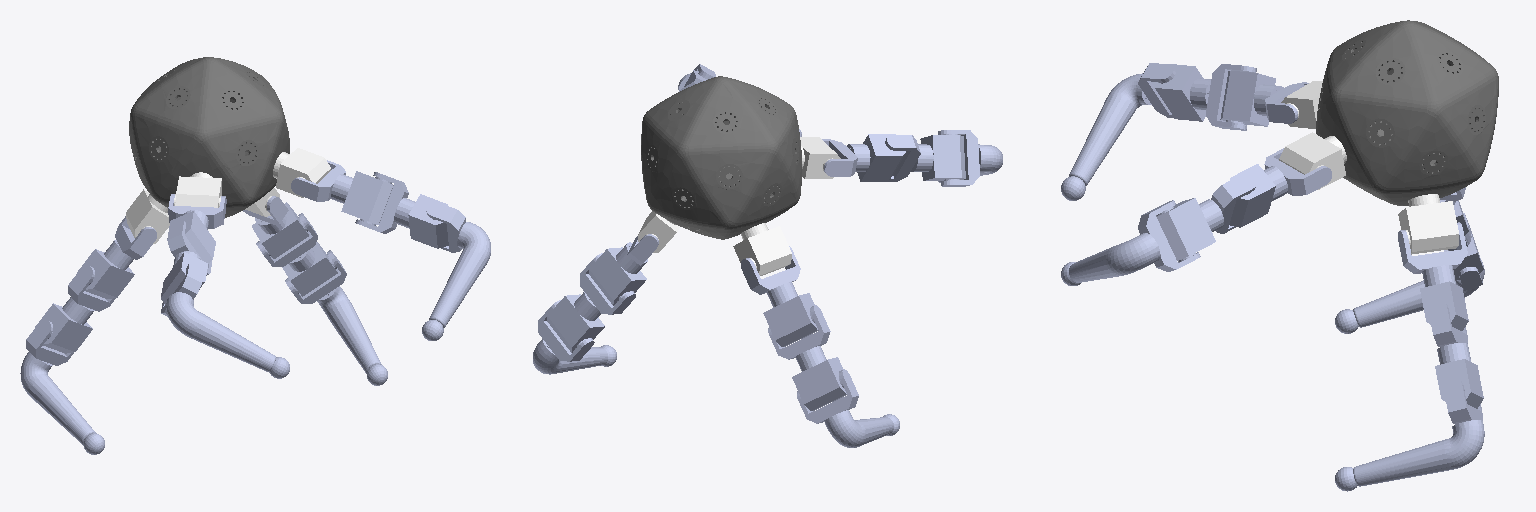
robot.urdf — mod_test:
<?xml version="1.0" encoding="utf-8"?>
<robot
  name="mod_test">
  <link
    name="base_link">
    <inertial>
      <origin
        xyz="-1.5226495220944E-06 1.5812928362389E-07 -5.05247252856584E-07"
        rpy="0 0 0" />
      <mass
        value="0.422806992949252" />
      <inertia
        ixx="0.00237499139253511"
        ixy="1.5717831530364E-08"
        ixz="1.49286265366169E-08"
        iyy="0.00237502154661776"
        iyz="-2.02154172619351E-08"
        izz="0.00237502595466009" />
    </inertial>
    <visual>
      <origin
        xyz="0 0 0"
        rpy="0 0 0" />
      <geometry>
        <mesh
          filename="package://meshes/base_link.STL" />
      </geometry>
      <material
        name="">
        <color
          rgba="0.498039215686275 0.498039215686275 0.498039215686275 1" />
      </material>
    </visual>
    <collision>
      <origin
        xyz="0 0 0"
        rpy="0 0 0" />
      <geometry>
        <mesh
          filename="package://meshes/base_link.STL" />
      </geometry>
    </collision>
  </link>
  <link
   name="160">
   <inertial>
      <origin
        xyz="0 0 0.028508"
        rpy="0 0 0" />
      <mass
        value="0.076173" />
      <inertia
        ixx="3.054E-05"
        ixy="0.000000"
        ixz="0.000000"
        iyy="2.1077E-05"
        iyz="0.000000"
        izz="2.1165E-05" />
    </inertial>
    <visual>
      <origin
        xyz="0 0 0"
        rpy="0 0 0" />
      <geometry>
        <mesh
          filename="package://meshes/1.STL" />
      </geometry>
      <material
        name="">
        <color
          rgba="1 1 1 1" />
      </material>
    </visual>
    <collision>
      <origin
        xyz="0 0 0"
        rpy="0 0 0" />
      <geometry>
        <mesh
          filename="package://meshes/1.STL" />
      </geometry>
    </collision>
  </link>
  <joint
    name="body_160"
    type="fixed">
    <origin
        xyz="0.051623 0.016773 -0.071046"
        rpy="3.141593 -0.652404 0.314159" />
    <parent
      link="base_link" />
    <child
      link="160" />
    <axis
      xyz="0 0 0" />
  </joint>
  <link
    name="161">
    <inertial>
      <origin
        xyz="0.060018 -1.4108E-06 1.4108E-06"
        rpy="0 0 0" />
    <mass
        value="0.10689" />
      <inertia
        ixx="3.2684e-05"
        ixy="-2.5662e-09"
        ixz="2.5662e-09"
        iyy="8.6498e-05"
        iyz="-4.0975e-06"
        izz="8.2217e-05" />
    </inertial>
    <visual>
      <origin
        xyz="0 0 0"
        rpy="0 0 0" />
      <geometry>
        <mesh
          filename="package://meshes/module10.STL" />
      </geometry>
      <material
        name="">
        <color
          rgba="0.79216 0.81961 0.93333 1" />
      </material>
    </visual>
    <collision>
      <origin
        xyz="0 0 0"
        rpy="0 0 0" />
      <geometry>
        <mesh
          filename="package://meshes/module10.STL" />
      </geometry>
    </collision>
  </link>
  <joint
    name="160_161"
    type="revolute">
    <origin
      xyz="0 0 0.04"
      rpy="-1.558 -1.5708 -0.012835" />
    <parent
      link="160" />
    <child
      link="161" />
    <axis
      xyz="0 0 1" />
    <limit
      lower="-6.28"
      upper="6.28"
      effort="10"
      velocity="100" />
  </joint>
  <link
    name="162">
    <inertial>
      <origin
        xyz="0.060018 -1.4108E-06 1.4108E-06"
        rpy="0 0 0" />
    <mass
        value="0.10689" />
      <inertia
        ixx="3.2684e-05"
        ixy="-2.5662e-09"
        ixz="2.5662e-09"
        iyy="9.3595e-05"
        iyz="-2.1275e-13"
        izz="7.512e-05" />
    </inertial>
    <visual>
      <origin
        xyz="0 0 0"
        rpy="0 0 0" />
      <geometry>
        <mesh
          filename="package://meshes/module0.STL" />
      </geometry>
      <material
        name="">
        <color
          rgba="0.79216 0.81961 0.93333 1" />
      </material>
    </visual>
    <collision>
      <origin
        xyz="0 0 0"
        rpy="0 0 0" />
      <geometry>
        <mesh
          filename="package://meshes/module0.STL" />
      </geometry>
    </collision>
  </link>
  <joint
    name="161_162"
    type="revolute">
    <origin
      xyz="0.0816 0 0"
      rpy="5.235988 0 0" />
    <parent
      link="161" />
    <child
      link="162" />
    <axis
      xyz="0 0 1" />
    <limit
      lower="-6.28"
      upper="6.28"
      effort="10"
      velocity="100" />
  </joint>
  <link
    name="163">
    <inertial>
      <origin
        xyz="0.051733 -0.042281 -1.3878E-17"
        rpy="0 0 0" />
    <mass
        value="0.12059" />
      <inertia
        ixx="0.00025425"
        ixy="4.8319E-05"
        ixz="0"
        iyy="5.0194E-05"
        iyz="-3.3141E-21"
        izz="0.00027482" />
    </inertial>
    <visual>
      <origin
        xyz="0 0 0"
        rpy="0 0 0" />
      <geometry>
        <mesh
          filename="package://meshes/leg.STL" />
      </geometry>
      <material
        name="">
        <color
          rgba="0.79216 0.81961 0.93333 1" />
      </material>
    </visual>
    <collision>
      <origin
        xyz="0 0 0"
        rpy="0 0 0" />
      <geometry>
        <mesh
          filename="package://meshes/leg.STL" />
      </geometry>
    </collision>
  </link>
  <joint
    name="162_163"
    type="revolute">
    <origin
      xyz="0.0816 0 0"
      rpy="0.000000 0 0" />
    <parent
      link="162" />
    <child
      link="163" />
    <axis
      xyz="0 0 1" />
    <limit
      lower="-6.28"
      upper="6.28"
      effort="10"
      velocity="100" />
  </joint>
  <link
   name="100">
   <inertial>
      <origin
        xyz="0 0 0.028508"
        rpy="0 0 0" />
      <mass
        value="0.076173" />
      <inertia
        ixx="3.054E-05"
        ixy="0.000000"
        ixz="0.000000"
        iyy="2.1077E-05"
        iyz="0.000000"
        izz="2.1165E-05" />
    </inertial>
    <visual>
      <origin
        xyz="0 0 0"
        rpy="0 0 0" />
      <geometry>
        <mesh
          filename="package://meshes/1.STL" />
      </geometry>
      <material
        name="">
        <color
          rgba="1 1 1 1" />
      </material>
    </visual>
    <collision>
      <origin
        xyz="0 0 0"
        rpy="0 0 0" />
      <geometry>
        <mesh
          filename="package://meshes/1.STL" />
      </geometry>
    </collision>
  </link>
  <joint
    name="body_100"
    type="fixed">
    <origin
        xyz="0.051620 -0.071049 -0.016769"
        rpy="3.141593 -1.382126 -0.942478" />
    <parent
      link="base_link" />
    <child
      link="100" />
    <axis
      xyz="0 0 0" />
  </joint>
  <link
    name="101">
    <inertial>
      <origin
        xyz="0.060018 -1.4108E-06 1.4108E-06"
        rpy="0 0 0" />
    <mass
        value="0.10689" />
      <inertia
        ixx="3.2684e-05"
        ixy="-2.5662e-09"
        ixz="2.5662e-09"
        iyy="8.6498e-05"
        iyz="4.0975e-06"
        izz="8.2217e-05" />
    </inertial>
    <visual>
      <origin
        xyz="0 0 0"
        rpy="0 0 0" />
      <geometry>
        <mesh
          filename="package://meshes/module8.STL" />
      </geometry>
      <material
        name="">
        <color
          rgba="0.79216 0.81961 0.93333 1" />
      </material>
    </visual>
    <collision>
      <origin
        xyz="0 0 0"
        rpy="0 0 0" />
      <geometry>
        <mesh
          filename="package://meshes/module8.STL" />
      </geometry>
    </collision>
  </link>
  <joint
    name="100_101"
    type="revolute">
    <origin
      xyz="0 0 0.04"
      rpy="-1.558 -1.5708 -0.012835" />
    <parent
      link="100" />
    <child
      link="101" />
    <axis
      xyz="0 0 1" />
    <limit
      lower="-6.28"
      upper="6.28"
      effort="10"
      velocity="100" />
  </joint>
  <link
    name="102">
    <inertial>
      <origin
        xyz="0.060018 -1.4108E-06 1.4108E-06"
        rpy="0 0 0" />
    <mass
        value="0.10689" />
      <inertia
        ixx="3.2684e-05"
        ixy="-2.5662e-09"
        ixz="2.5662e-09"
        iyy="8.6498e-05"
        iyz="4.0975e-06"
        izz="8.2217e-05" />
    </inertial>
    <visual>
      <origin
        xyz="0 0 0"
        rpy="0 0 0" />
      <geometry>
        <mesh
          filename="package://meshes/module2.STL" />
      </geometry>
      <material
        name="">
        <color
          rgba="0.79216 0.81961 0.93333 1" />
      </material>
    </visual>
    <collision>
      <origin
        xyz="0 0 0"
        rpy="0 0 0" />
      <geometry>
        <mesh
          filename="package://meshes/module2.STL" />
      </geometry>
    </collision>
  </link>
  <joint
    name="101_102"
    type="revolute">
    <origin
      xyz="0.0816 0 0"
      rpy="4.188790 0 0" />
    <parent
      link="101" />
    <child
      link="102" />
    <axis
      xyz="0 0 1" />
    <limit
      lower="-6.28"
      upper="6.28"
      effort="10"
      velocity="100" />
  </joint>
  <link
    name="103">
    <inertial>
      <origin
        xyz="0.051733 -0.042281 -1.3878E-17"
        rpy="0 0 0" />
    <mass
        value="0.12059" />
      <inertia
        ixx="0.00025425"
        ixy="4.8319E-05"
        ixz="0"
        iyy="5.0194E-05"
        iyz="-3.3141E-21"
        izz="0.00027482" />
    </inertial>
    <visual>
      <origin
        xyz="0 0 0"
        rpy="0 0 0" />
      <geometry>
        <mesh
          filename="package://meshes/leg.STL" />
      </geometry>
      <material
        name="">
        <color
          rgba="0.79216 0.81961 0.93333 1" />
      </material>
    </visual>
    <collision>
      <origin
        xyz="0 0 0"
        rpy="0 0 0" />
      <geometry>
        <mesh
          filename="package://meshes/leg.STL" />
      </geometry>
    </collision>
  </link>
  <joint
    name="102_103"
    type="revolute">
    <origin
      xyz="0.0816 0 0"
      rpy="1.047198 0 0" />
    <parent
      link="102" />
    <child
      link="103" />
    <axis
      xyz="0 0 1" />
    <limit
      lower="-6.28"
      upper="6.28"
      effort="10"
      velocity="100" />
  </joint>
  <link
   name="140">
   <inertial>
      <origin
        xyz="0 0 0.028508"
        rpy="0 0 0" />
      <mass
        value="0.076173" />
      <inertia
        ixx="3.054E-05"
        ixy="0.000000"
        ixz="0.000000"
        iyy="2.1077E-05"
        iyz="0.000000"
        izz="2.1165E-05" />
    </inertial>
    <visual>
      <origin
        xyz="0 0 0"
        rpy="0 0 0" />
      <geometry>
        <mesh
          filename="package://meshes/1.STL" />
      </geometry>
      <material
        name="">
        <color
          rgba="1 1 1 1" />
      </material>
    </visual>
    <collision>
      <origin
        xyz="0 0 0"
        rpy="0 0 0" />
      <geometry>
        <mesh
          filename="package://meshes/1.STL" />
      </geometry>
    </collision>
  </link>
  <joint
    name="body_140"
    type="fixed">
    <origin
        xyz="-0.051620 -0.071049 -0.016769"
        rpy="3.141593 -1.382126 -2.199115" />
    <parent
      link="base_link" />
    <child
      link="140" />
    <axis
      xyz="0 0 0" />
  </joint>
  <link
    name="141">
    <inertial>
      <origin
        xyz="0.060018 -1.4108E-06 1.4108E-06"
        rpy="0 0 0" />
    <mass
        value="0.10689" />
      <inertia
        ixx="3.2241e-05"
        ixy="3.5298e-07"
        ixz="2.0781e-07"
        iyy="8.5969e-05"
        iyz="-3.9192e-06"
        izz="8.1482e-05" />
    </inertial>
    <visual>
      <origin
        xyz="0 0 0"
        rpy="0 0 0" />
      <geometry>
        <mesh
          filename="package://meshes/module4.STL" />
      </geometry>
      <material
        name="">
        <color
          rgba="0.79216 0.81961 0.93333 1" />
      </material>
    </visual>
    <collision>
      <origin
        xyz="0 0 0"
        rpy="0 0 0" />
      <geometry>
        <mesh
          filename="package://meshes/module4.STL" />
      </geometry>
    </collision>
  </link>
  <joint
    name="140_141"
    type="revolute">
    <origin
      xyz="0 0 0.04"
      rpy="-1.558 -1.5708 -0.012835" />
    <parent
      link="140" />
    <child
      link="141" />
    <axis
      xyz="0 0 1" />
    <limit
      lower="-6.28"
      upper="6.28"
      effort="10"
      velocity="100" />
  </joint>
  <link
    name="142">
    <inertial>
      <origin
        xyz="0.060018 -1.4108E-06 1.4108E-06"
        rpy="0 0 0" />
    <mass
        value="0.10689" />
      <inertia
        ixx="3.2684e-05"
        ixy="-2.5662e-09"
        ixz="2.5662e-09"
        iyy="8.6498e-05"
        iyz="-4.0975e-06"
        izz="8.2217e-05" />
    </inertial>
    <visual>
      <origin
        xyz="0 0 0"
        rpy="0 0 0" />
      <geometry>
        <mesh
          filename="package://meshes/module10.STL" />
      </geometry>
      <material
        name="">
        <color
          rgba="0.79216 0.81961 0.93333 1" />
      </material>
    </visual>
    <collision>
      <origin
        xyz="0 0 0"
        rpy="0 0 0" />
      <geometry>
        <mesh
          filename="package://meshes/module10.STL" />
      </geometry>
    </collision>
  </link>
  <joint
    name="141_142"
    type="revolute">
    <origin
      xyz="0.0816 0 0"
      rpy="2.094395 0 0" />
    <parent
      link="141" />
    <child
      link="142" />
    <axis
      xyz="0 0 1" />
    <limit
      lower="-6.28"
      upper="6.28"
      effort="10"
      velocity="100" />
  </joint>
  <link
    name="143">
    <inertial>
      <origin
        xyz="0.051733 -0.042281 -1.3878E-17"
        rpy="0 0 0" />
    <mass
        value="0.12059" />
      <inertia
        ixx="0.00025425"
        ixy="4.8319E-05"
        ixz="0"
        iyy="5.0194E-05"
        iyz="-3.3141E-21"
        izz="0.00027482" />
    </inertial>
    <visual>
      <origin
        xyz="0 0 0"
        rpy="0 0 0" />
      <geometry>
        <mesh
          filename="package://meshes/leg.STL" />
      </geometry>
      <material
        name="">
        <color
          rgba="0.79216 0.81961 0.93333 1" />
      </material>
    </visual>
    <collision>
      <origin
        xyz="0 0 0"
        rpy="0 0 0" />
      <geometry>
        <mesh
          filename="package://meshes/leg.STL" />
      </geometry>
    </collision>
  </link>
  <joint
    name="142_143"
    type="revolute">
    <origin
      xyz="0.0816 0 0"
      rpy="5.235988 0 0" />
    <parent
      link="142" />
    <child
      link="143" />
    <axis
      xyz="0 0 1" />
    <limit
      lower="-6.28"
      upper="6.28"
      effort="10"
      velocity="100" />
  </joint>
  <link
   name="180">
   <inertial>
      <origin
        xyz="0 0 0.028508"
        rpy="0 0 0" />
      <mass
        value="0.076173" />
      <inertia
        ixx="3.054E-05"
        ixy="0.000000"
        ixz="0.000000"
        iyy="2.1077E-05"
        iyz="0.000000"
        izz="2.1165E-05" />
    </inertial>
    <visual>
      <origin
        xyz="0 0 0"
        rpy="0 0 0" />
      <geometry>
        <mesh
          filename="package://meshes/1.STL" />
      </geometry>
      <material
        name="">
        <color
          rgba="1 1 1 1" />
      </material>
    </visual>
    <collision>
      <origin
        xyz="0 0 0"
        rpy="0 0 0" />
      <geometry>
        <mesh
          filename="package://meshes/1.STL" />
      </geometry>
    </collision>
  </link>
  <joint
    name="body_180"
    type="fixed">
    <origin
        xyz="-0.051623 0.016773 -0.071046"
        rpy="3.141593 -0.652404 2.827433" />
    <parent
      link="base_link" />
    <child
      link="180" />
    <axis
      xyz="0 0 0" />
  </joint>
  <link
    name="181">
    <inertial>
      <origin
        xyz="0.060018 -1.4108E-06 1.4108E-06"
        rpy="0 0 0" />
    <mass
        value="0.10689" />
      <inertia
        ixx="3.2684e-05"
        ixy="-2.5662e-09"
        ixz="2.5662e-09"
        iyy="8.6498e-05"
        iyz="4.0975e-06"
        izz="8.2217e-05" />
    </inertial>
    <visual>
      <origin
        xyz="0 0 0"
        rpy="0 0 0" />
      <geometry>
        <mesh
          filename="package://meshes/module2.STL" />
      </geometry>
      <material
        name="">
        <color
          rgba="0.79216 0.81961 0.93333 1" />
      </material>
    </visual>
    <collision>
      <origin
        xyz="0 0 0"
        rpy="0 0 0" />
      <geometry>
        <mesh
          filename="package://meshes/module2.STL" />
      </geometry>
    </collision>
  </link>
  <joint
    name="180_181"
    type="revolute">
    <origin
      xyz="0 0 0.04"
      rpy="-1.558 -1.5708 -0.012835" />
    <parent
      link="180" />
    <child
      link="181" />
    <axis
      xyz="0 0 1" />
    <limit
      lower="-6.28"
      upper="6.28"
      effort="10"
      velocity="100" />
  </joint>
  <link
    name="182">
    <inertial>
      <origin
        xyz="0.060018 -1.4108E-06 1.4108E-06"
        rpy="0 0 0" />
    <mass
        value="0.10689" />
      <inertia
        ixx="3.2684e-05"
        ixy="-2.5662e-09"
        ixz="2.5662e-09"
        iyy="9.3595e-05"
        iyz="-2.1275e-13"
        izz="7.512e-05" />
    </inertial>
    <visual>
      <origin
        xyz="0 0 0"
        rpy="0 0 0" />
      <geometry>
        <mesh
          filename="package://meshes/module0.STL" />
      </geometry>
      <material
        name="">
        <color
          rgba="0.79216 0.81961 0.93333 1" />
      </material>
    </visual>
    <collision>
      <origin
        xyz="0 0 0"
        rpy="0 0 0" />
      <geometry>
        <mesh
          filename="package://meshes/module0.STL" />
      </geometry>
    </collision>
  </link>
  <joint
    name="181_182"
    type="revolute">
    <origin
      xyz="0.0816 0 0"
      rpy="1.047198 0 0" />
    <parent
      link="181" />
    <child
      link="182" />
    <axis
      xyz="0 0 1" />
    <limit
      lower="-6.28"
      upper="6.28"
      effort="10"
      velocity="100" />
  </joint>
  <link
    name="183">
    <inertial>
      <origin
        xyz="0.051733 -0.042281 -1.3878E-17"
        rpy="0 0 0" />
    <mass
        value="0.12059" />
      <inertia
        ixx="0.00025425"
        ixy="4.8319E-05"
        ixz="0"
        iyy="5.0194E-05"
        iyz="-3.3141E-21"
        izz="0.00027482" />
    </inertial>
    <visual>
      <origin
        xyz="0 0 0"
        rpy="0 0 0" />
      <geometry>
        <mesh
          filename="package://meshes/leg.STL" />
      </geometry>
      <material
        name="">
        <color
          rgba="0.79216 0.81961 0.93333 1" />
      </material>
    </visual>
    <collision>
      <origin
        xyz="0 0 0"
        rpy="0 0 0" />
      <geometry>
        <mesh
          filename="package://meshes/leg.STL" />
      </geometry>
    </collision>
  </link>
  <joint
    name="182_183"
    type="revolute">
    <origin
      xyz="0.0816 0 0"
      rpy="0.000000 0 0" />
    <parent
      link="182" />
    <child
      link="183" />
    <axis
      xyz="0 0 1" />
    <limit
      lower="-6.28"
      upper="6.28"
      effort="10"
      velocity="100" />
  </joint>
  <link
    name = "ball_1">
    <inertial>
    <origin
        xyz="0 0 0"
        rpy="0 0 0" />
    <mass
        value="0" />
      <inertia
        ixx="0"
        ixy="0"
        ixz="0"
        iyy="0"
        iyz="0"
        izz="0" />
    </inertial>    <visual>
      <origin
        xyz="0 0 0"
        rpy="0 0 0" />
     <geometry>
        <sphere radius = "0.01"/>
      </geometry>
      <material
        name="green">
        <color
          rgba="0.22 1 0.4 1" />
      </material>
    </visual>
  </link>
  <joint
  name="163_ball1"
  type="fixed">
    <origin
      xyz="0.0612 -0.13431 0"
      rpy="0 0 0" />
    <parent
      link="163" />
    <child
      link="ball_1" />
    <axis
      xyz="0 0 0" />
  </joint>
  <link
    name = "ball_2">
    <inertial>
    <origin
        xyz="0 0 0"
        rpy="0 0 0" />
    <mass
        value="0" />
      <inertia
        ixx="0"
        ixy="0"
        ixz="0"
        iyy="0"
        iyz="0"
        izz="0" />
    </inertial>    <visual>
      <origin
        xyz="0 0 0"
        rpy="0 0 0" />
      <geometry>
        <sphere radius = "0.01"/>
      </geometry>
      <material
        name="blue">
        <color
          rgba="0.16 0.52 0.8 1" />
      </material>
    </visual>
  </link>
  <joint
  name="103_ball2"
  type="fixed">
    <origin
      xyz="0.0612 -0.13431 0"
      rpy="0 0 0" />
    <parent
      link="103" />
    <child
      link="ball_2" />
    <axis
      xyz="0 0 0" />
  </joint>
  <link
    name = "ball_3">
    <inertial>
    <origin
        xyz="0 0 0"
        rpy="0 0 0" />
    <mass
        value="0" />
      <inertia
        ixx="0"
        ixy="0"
        ixz="0"
        iyy="0"
        iyz="0"
        izz="0" />
    </inertial>    <visual>
      <origin
        xyz="0 0 0"
        rpy="0 0 0" />
     <geometry>
        <sphere radius = "0.01"/>
      </geometry>
      <material
        name="blue">
        <color
          rgba="0.16 0.52 0.8 1" />
      </material>
    </visual>
  </link>
  <joint
  name="143_ball3"
  type="fixed">
    <origin
      xyz="0.0612 -0.13431 0"
      rpy="0 0 0" />
    <parent
      link="143" />
    <child
      link="ball_3" />
    <axis
      xyz="0 0 0" />
  </joint>
  <link
    name = "ball_4">
    <inertial>
    <origin
        xyz="0 0 0"
        rpy="0 0 0" />
    <mass
        value="0" />
      <inertia
        ixx="0"
        ixy="0"
        ixz="0"
        iyy="0"
        iyz="0"
        izz="0" />
    </inertial>    <visual>
      <origin
        xyz="0 0 0"
        rpy="0 0 0" />
      <geometry>
        <sphere radius = "0.01"/>
      </geometry>
      <material
        name="yellow">
        <color
          rgba="1 1 0 1" />
      </material>
    </visual>
  </link>
  <joint
  name="183_ball4"
  type="fixed">
    <origin
      xyz="0.0612 -0.13431 0"
      rpy="0 0 0" />
    <parent
      link="183" />
    <child
      link="ball_4" />
    <axis
      xyz="0 0 0" />
  </joint>
</robot>

--- Facts derived from the render (not from the file) ---
The picture shows the robot from 3 angles, left to right: view 1: azimuth 30°, elevation 25°; view 2: azimuth 150°, elevation 25°; view 3: azimuth 270°, elevation 25°; orthographic projection.
Robot: mod_test — 21 links, 20 joints (12 revolute, 8 fixed); root link base_link; default pose: all joints at 0.
Visible links, largest first — view 1: base_link, 143, 103, 183, 163, 101, 182, 181, 102, 162, 161, 141 (+4 smaller); view 2: base_link, 181, 182, 162, 142, 183, 161, 141, 163, 180, 143, 140 (+1 smaller); view 3: base_link, 163, 143, 103, 102, 142, 141, 101, 161, 162, 160, 183 (+3 smaller).
Boxes of the visible links, x1,y1,x2,y2 form: base_link: [129, 57, 289, 217]; 143: [161, 261, 289, 378]; 103: [422, 202, 490, 340]; 183: [20, 320, 104, 454]; 163: [285, 250, 387, 385]; 101: [291, 160, 393, 225]; 182: [35, 265, 115, 353]; 181: [77, 216, 156, 298]; 102: [355, 172, 448, 248]; 162: [256, 213, 337, 296]; 161: [243, 196, 309, 258]; 141: [167, 194, 226, 263]; base_link: [641, 76, 801, 239]; 181: [741, 246, 818, 346]; 182: [768, 305, 846, 410]; 162: [547, 253, 635, 352]; 142: [885, 134, 965, 181]; 183: [797, 369, 899, 447]; 161: [589, 234, 658, 305]; 141: [822, 134, 906, 181]; 163: [533, 300, 616, 374]; 180: [733, 223, 791, 275]; 143: [938, 130, 1002, 186]; 140: [800, 137, 840, 178]; base_link: [1316, 20, 1498, 205]; 163: [1335, 377, 1484, 491]; 143: [1061, 63, 1175, 200]; 103: [1061, 200, 1200, 285]; 102: [1156, 174, 1256, 261]; 142: [1152, 64, 1256, 130]; 141: [1220, 71, 1308, 126]; 101: [1229, 148, 1331, 227]; 161: [1398, 222, 1468, 330]; 162: [1428, 300, 1483, 408]; 160: [1398, 194, 1458, 254]; 183: [1335, 258, 1484, 333].
Size in the robot's own frame: 0.4363 by 0.4455 by 0.4368 metres.
17 mesh visuals loaded from 8 distinct referenced files (8 binary STL).